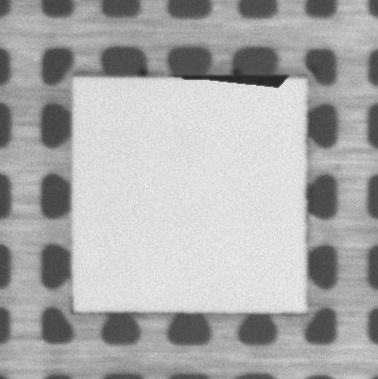DIE_BROKEN: (173, 69, 293, 89)
